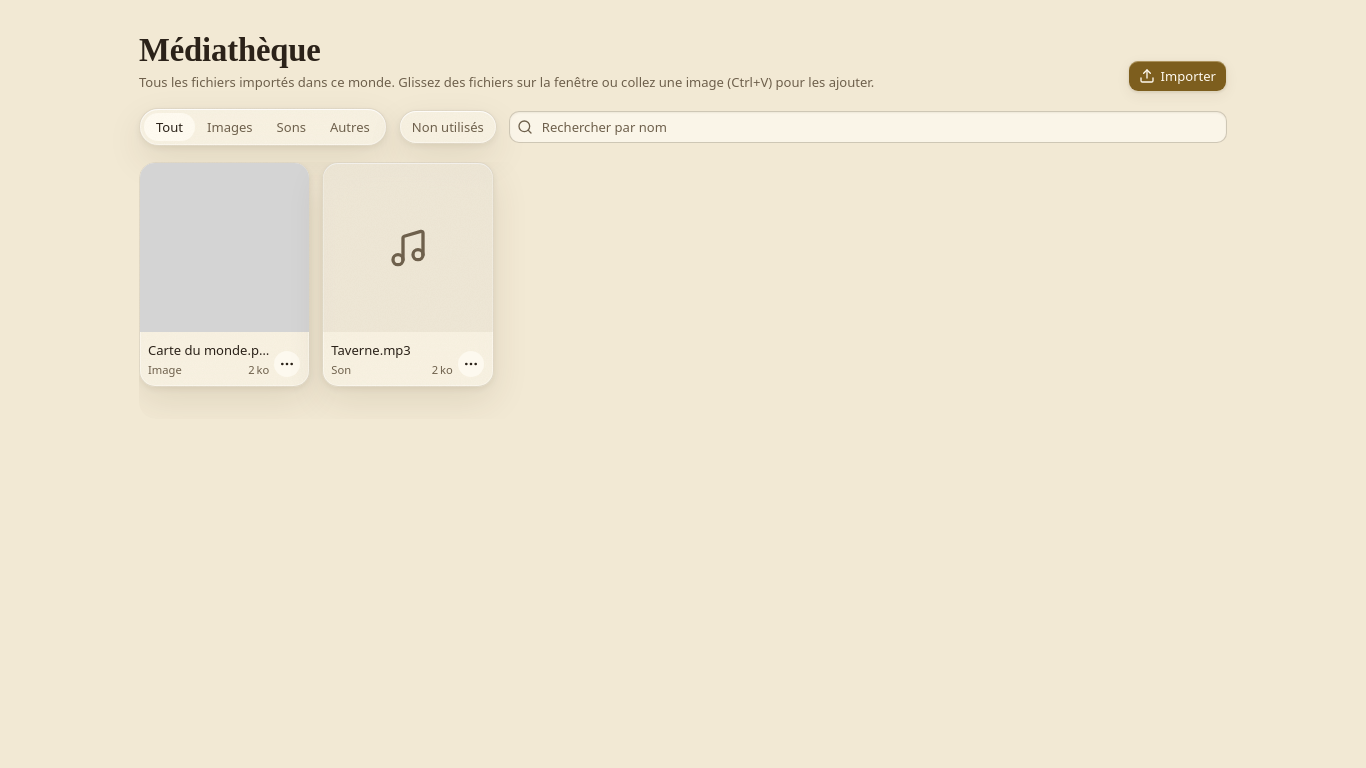
Test case: deletes an unused asset without a usage warning
Press Delete in the button named "Actions pour Taverne.mp3", box [457,350,485,378]
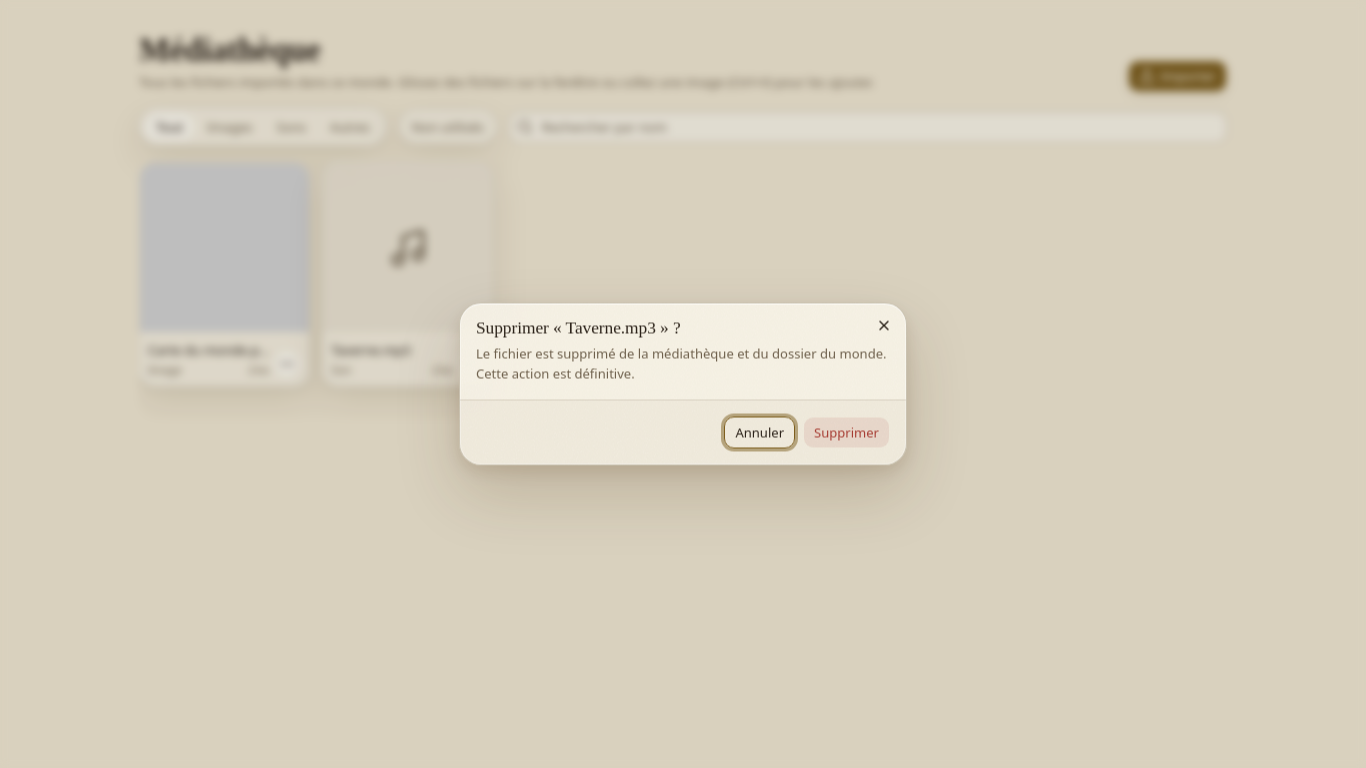
Now the button "Supprimer" is enabled
Click the button "Supprimer".
click(846, 432)  # box [803,416,890,448]
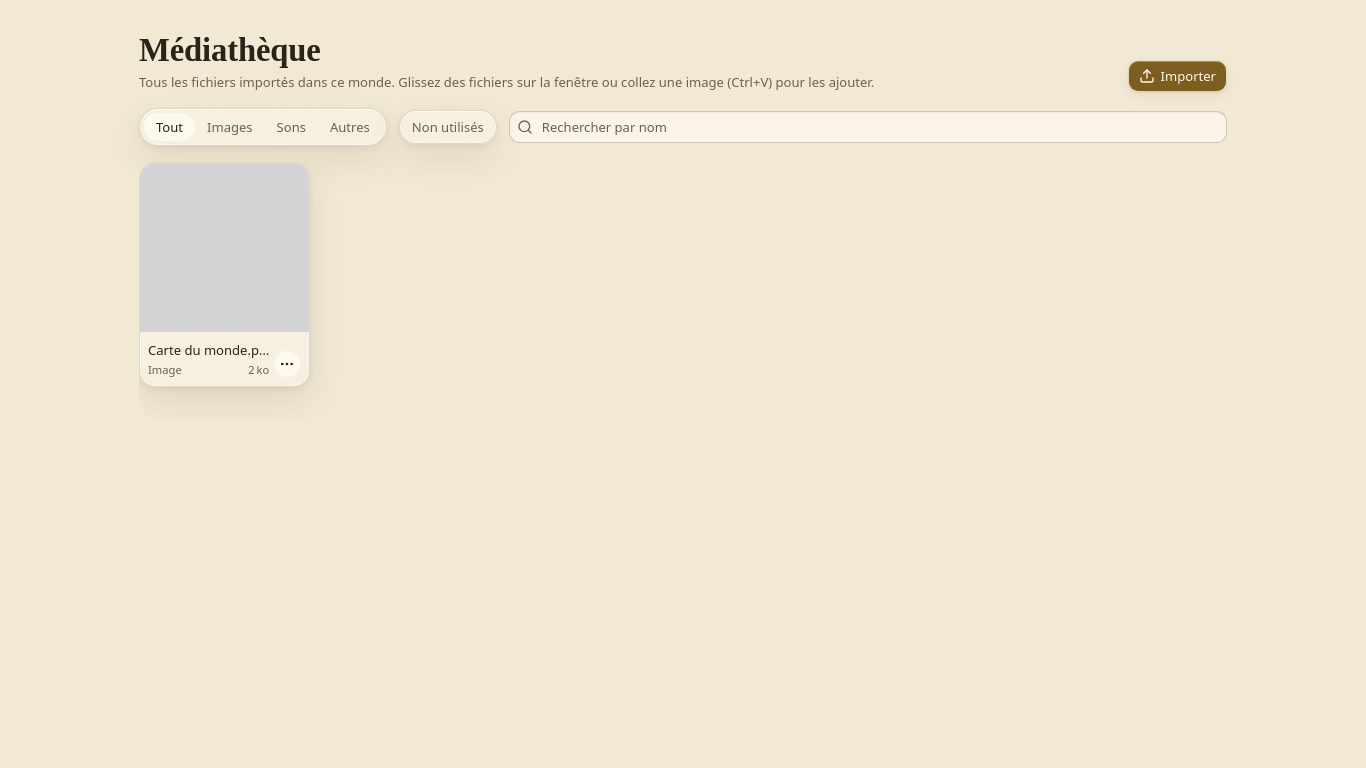
Now the text "Taverne.mp3" is gone
